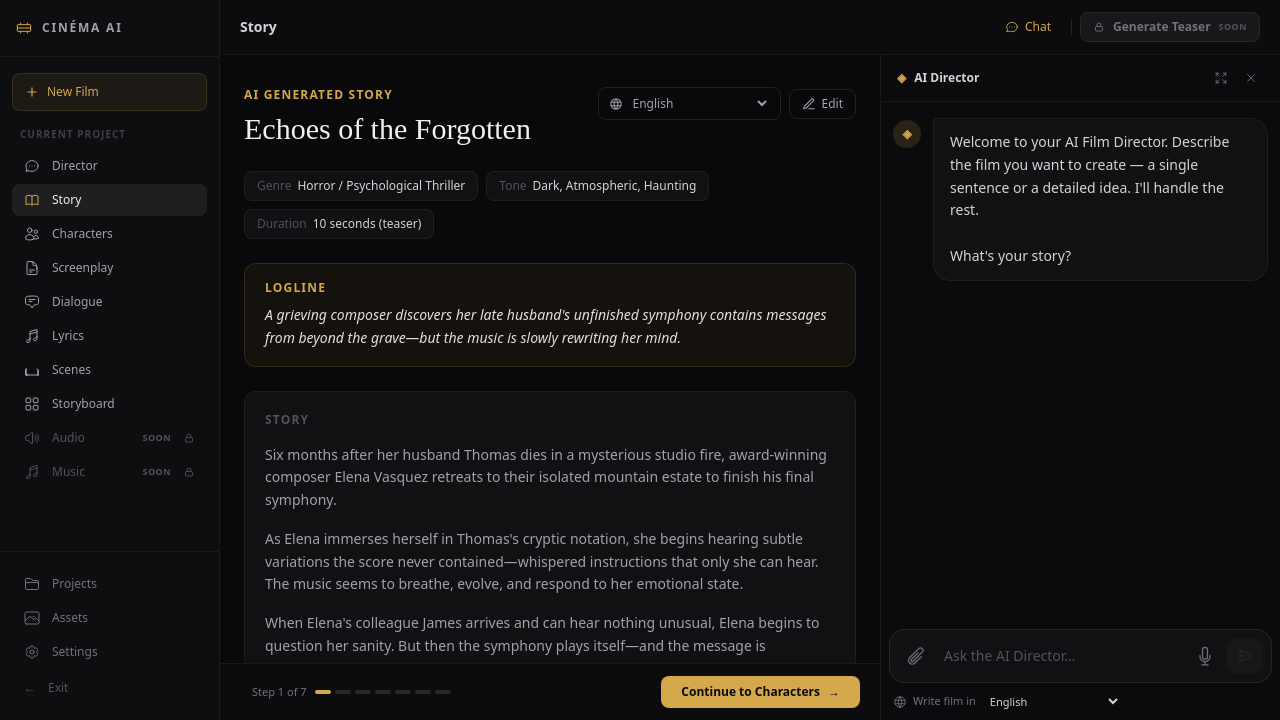
Scenario: section language picker › picking a language asks for the backend in demo mode and leaves the section as it was
Select "Tamil · தமிழ்" in the dropdown named "Language of the story": (699, 104) [628,94,770,113]
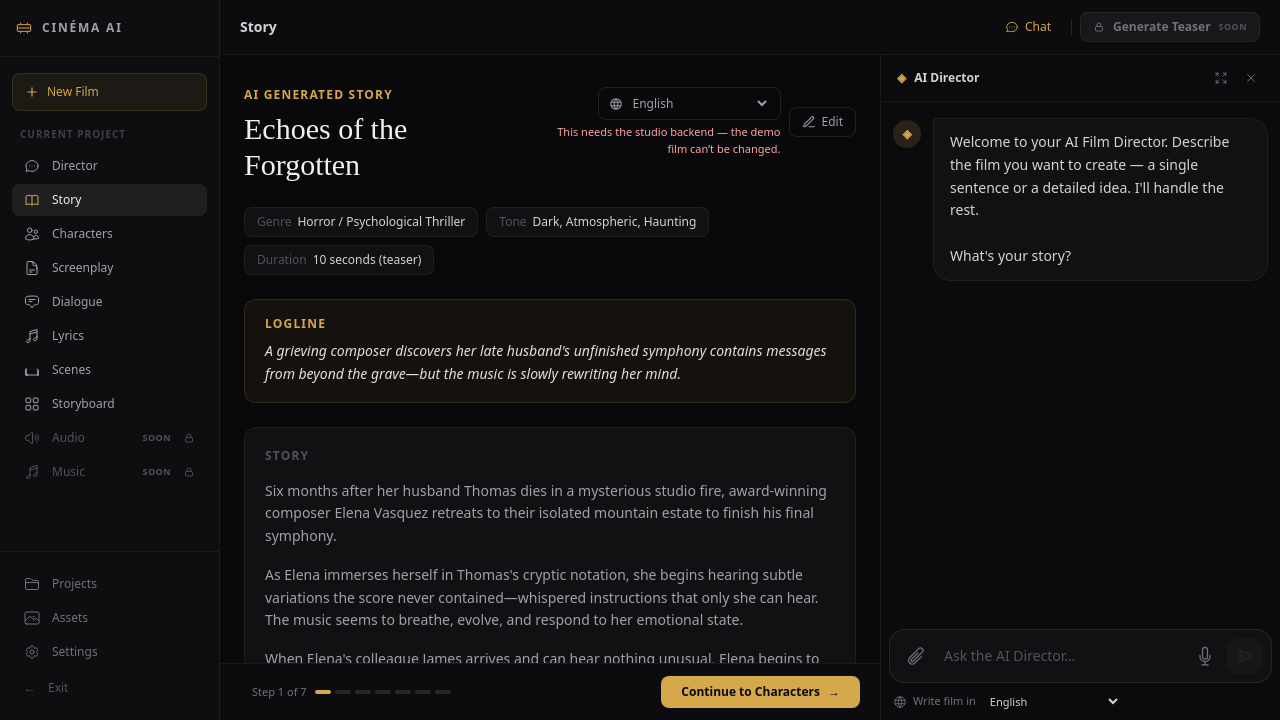
Expected: the message shows "needs the studio backend", [557,124,780,156]
